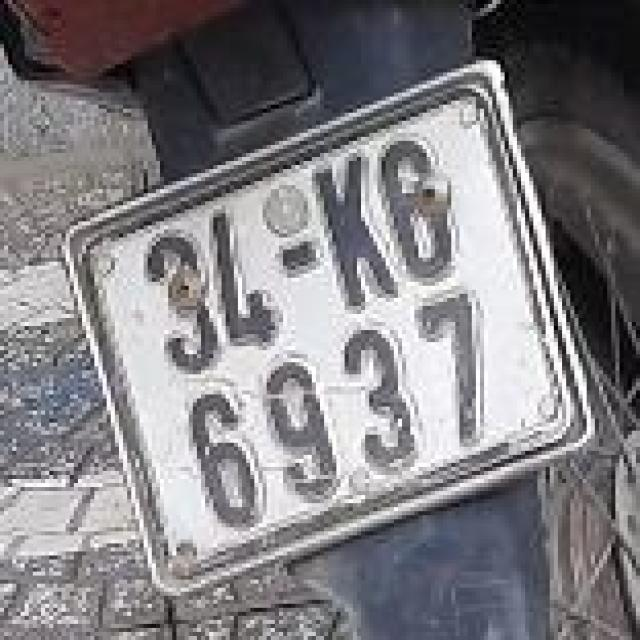3: (329, 307, 433, 483), (137, 209, 228, 388)
4: (200, 187, 293, 364)
6: (172, 364, 288, 543), (366, 124, 472, 293)
7: (405, 274, 506, 461)
9: (243, 344, 356, 521)
K: (290, 134, 407, 329)
